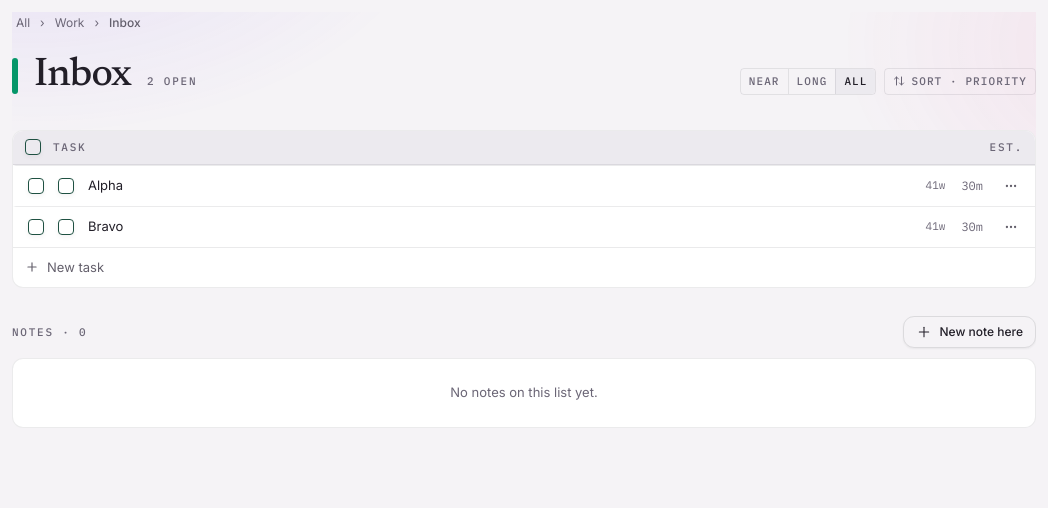
Scenario: SubcategoryView (chunk 31 re-skin) › reveals the bulk toolbar with Move / Delete when a task is selected
Expected: the heading "Inbox" is shown, [34,46,131,106]
Click the 1st checkbox named "Select task" at (36, 186), box [28,178,44,194]
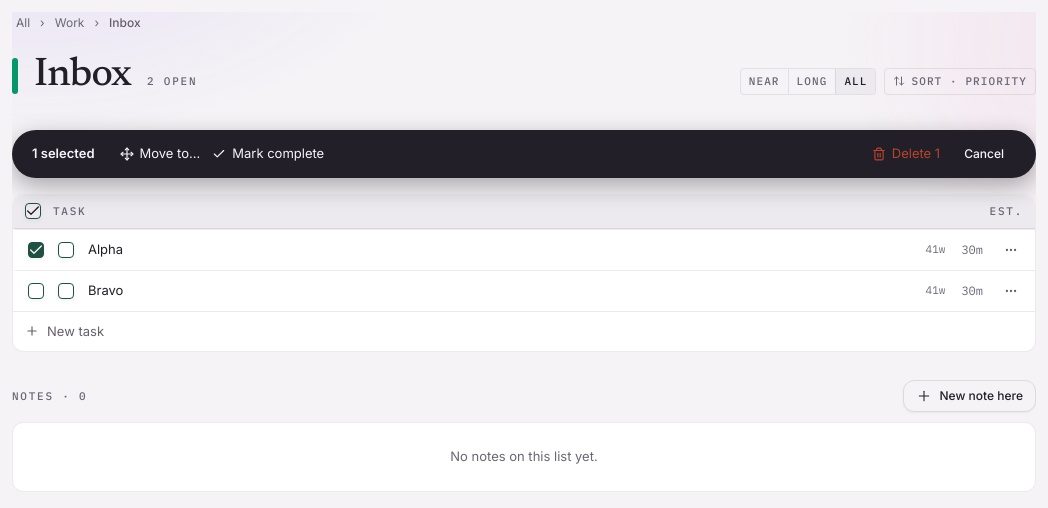
Now the element showing "1 selected Move to… Mark complete Delete 1 Cancel" is shown, box [12,130,1036,178]
Now the text "1 selected" is shown, box [32,144,94,164]
Now the button "Move to…" is shown, box [120,144,200,164]
